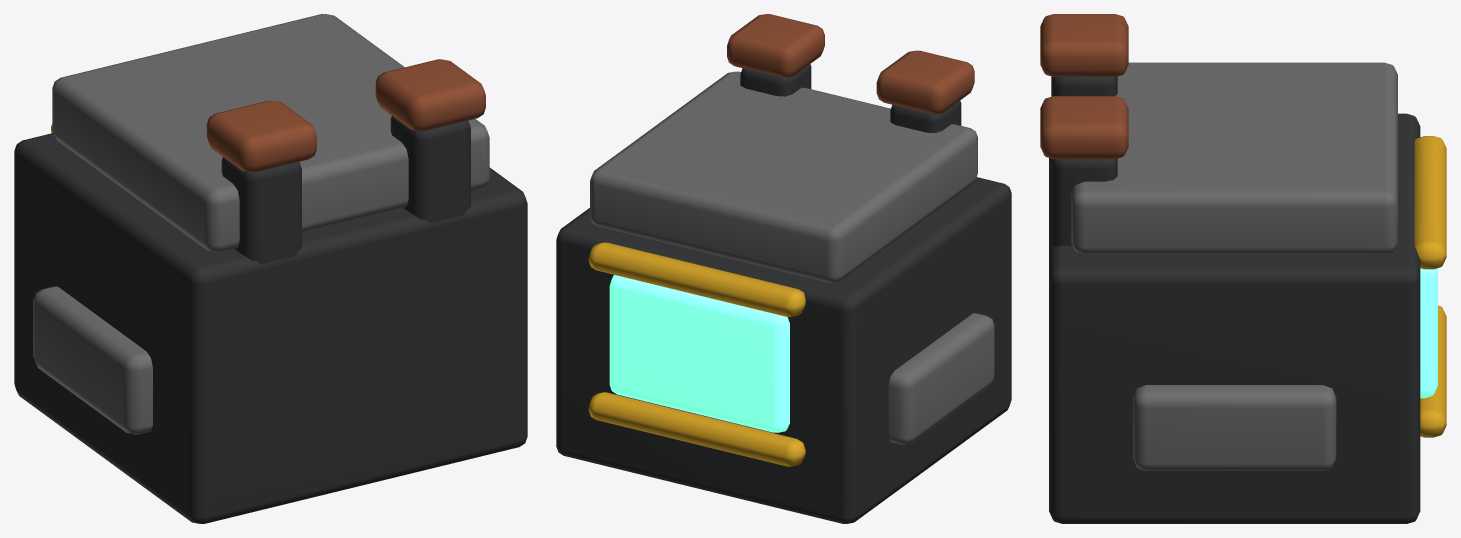
File: engine-mk1.glb
The picture shows the model from 3 angles, left to right: view 1: azimuth 30°, elevation 25°; view 2: azimuth 150°, elevation 25°; view 3: azimuth 270°, elevation 25°; orthographic projection. The views are drawn at different scales.
Parts seen in each view (by area): view 1: engine-mk1; view 2: engine-mk1; view 3: engine-mk1.
Part boxes in pixels (left/top/right/bottom): engine-mk1: left=14, top=14, right=527, bottom=523; engine-mk1: left=556, top=14, right=1011, bottom=523; engine-mk1: left=1040, top=14, right=1446, bottom=523.
Size of the model in its own units: 1 by 0.945 by 0.92.
